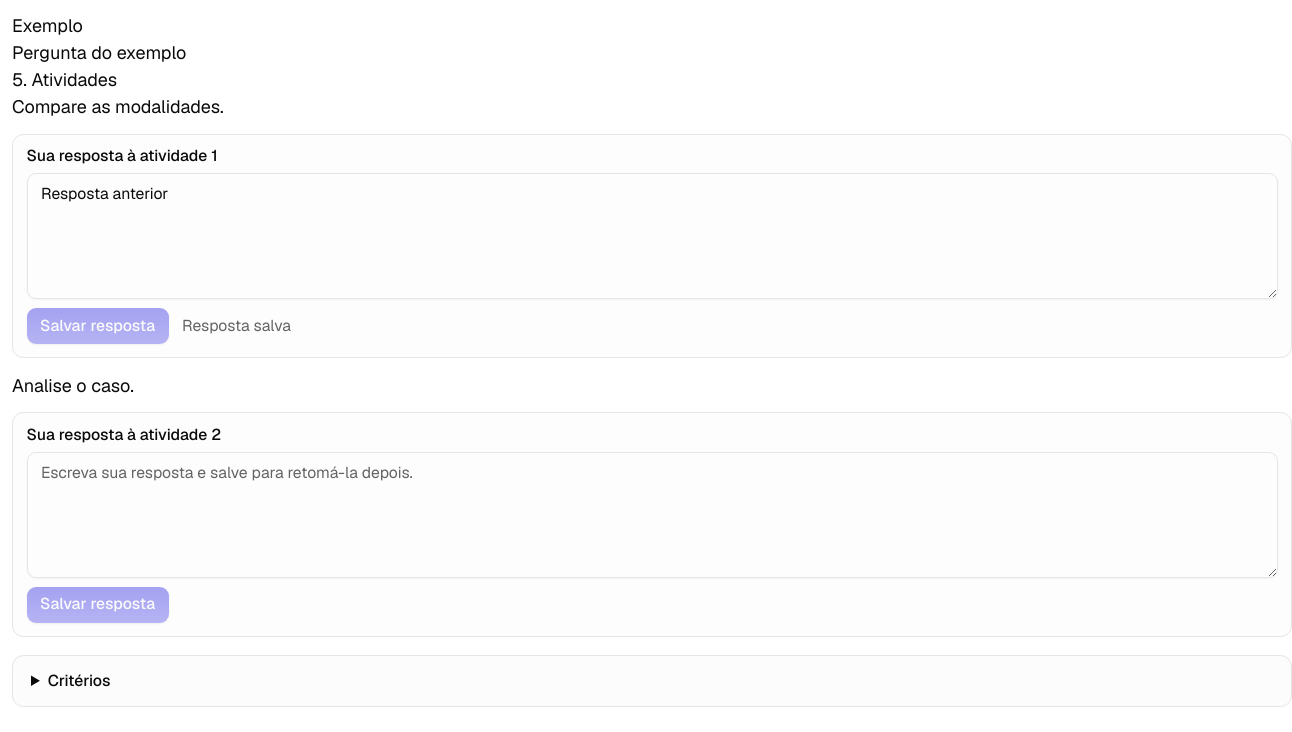
Test: Respostas nas perguntas dentro da aula › salvar uma atividade não apaga o rascunho de outra durante a atualização da consulta
This screenshot has width=1292, height=732.
Type "Ainda estou elaborando" into the text box labelled "Sua resposta à atividade 2".
click(652, 514); type("Ainda estou elaborando")  # box [26,452,1278,578]
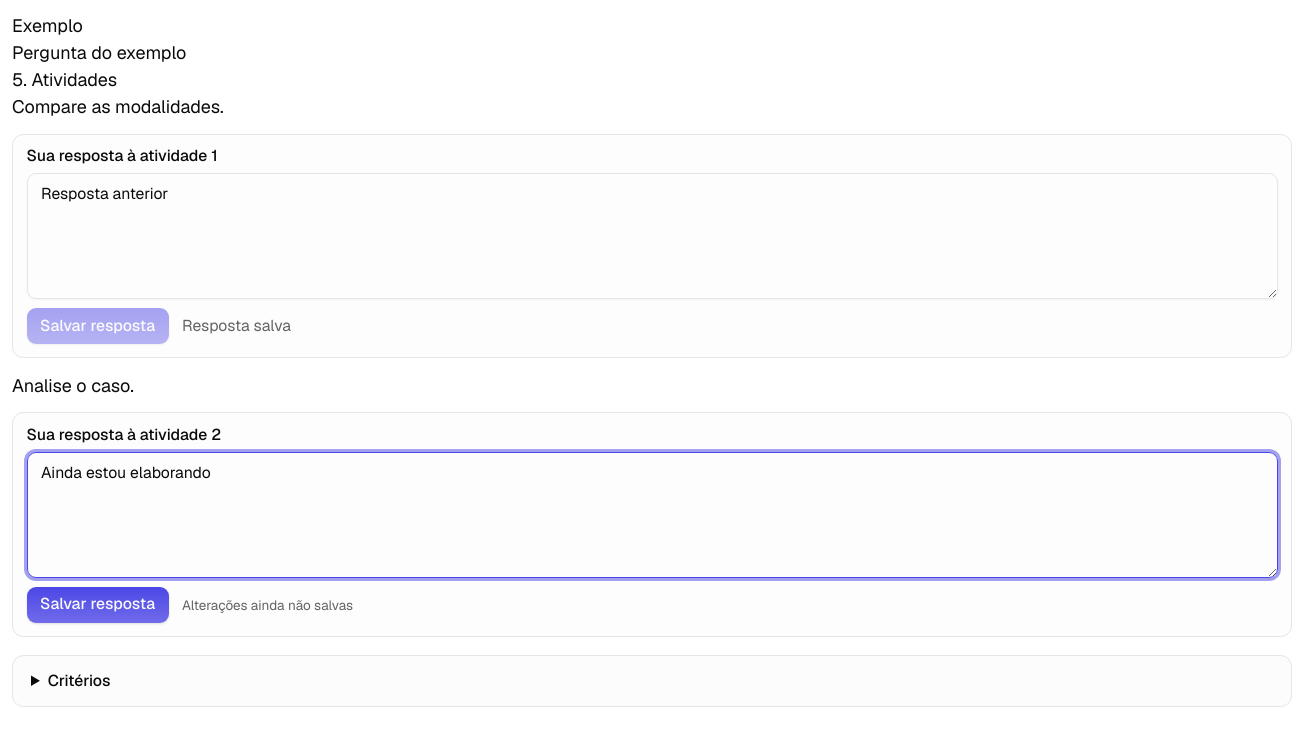
Replace the text in the text box labelled "Sua resposta à atividade 1" with "Resposta editada" at x=652, y=236, box [26,173,1278,299]
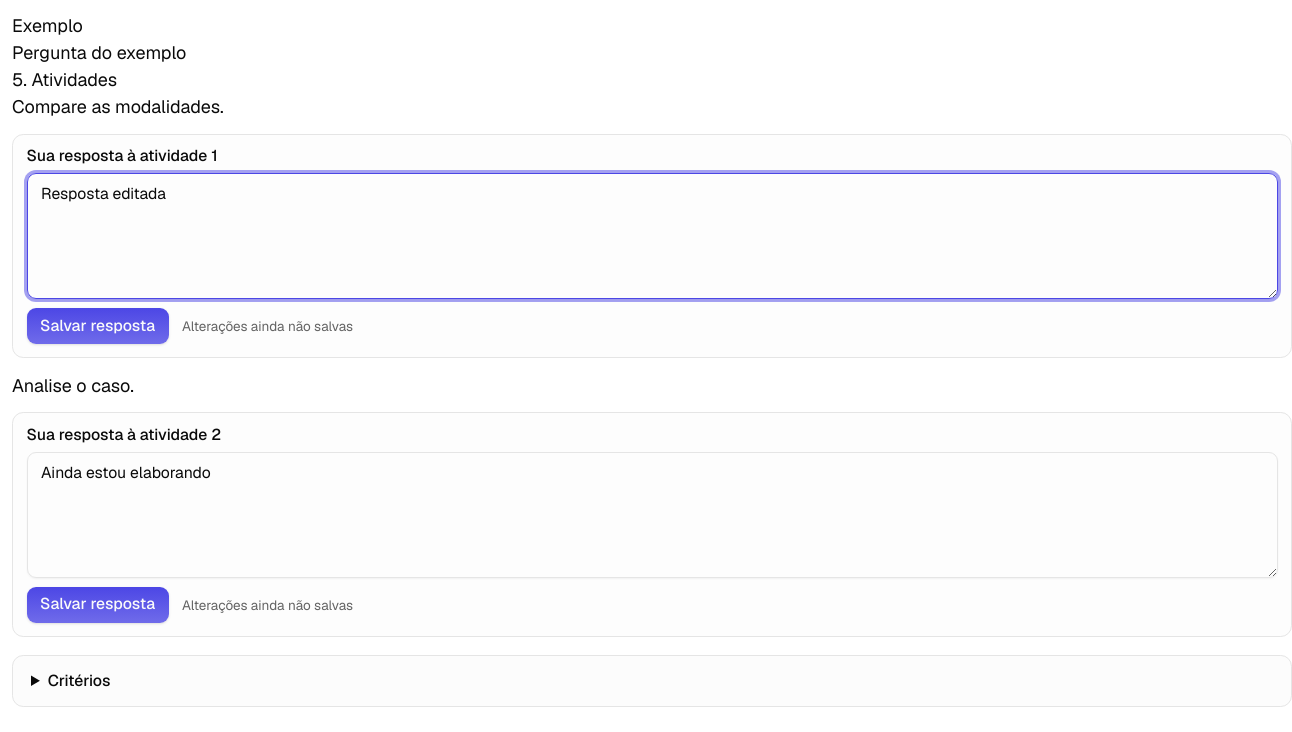
Click the button with aria-label "Salvar resposta da atividade 1".
click(98, 326)  # box [26,308,168,344]
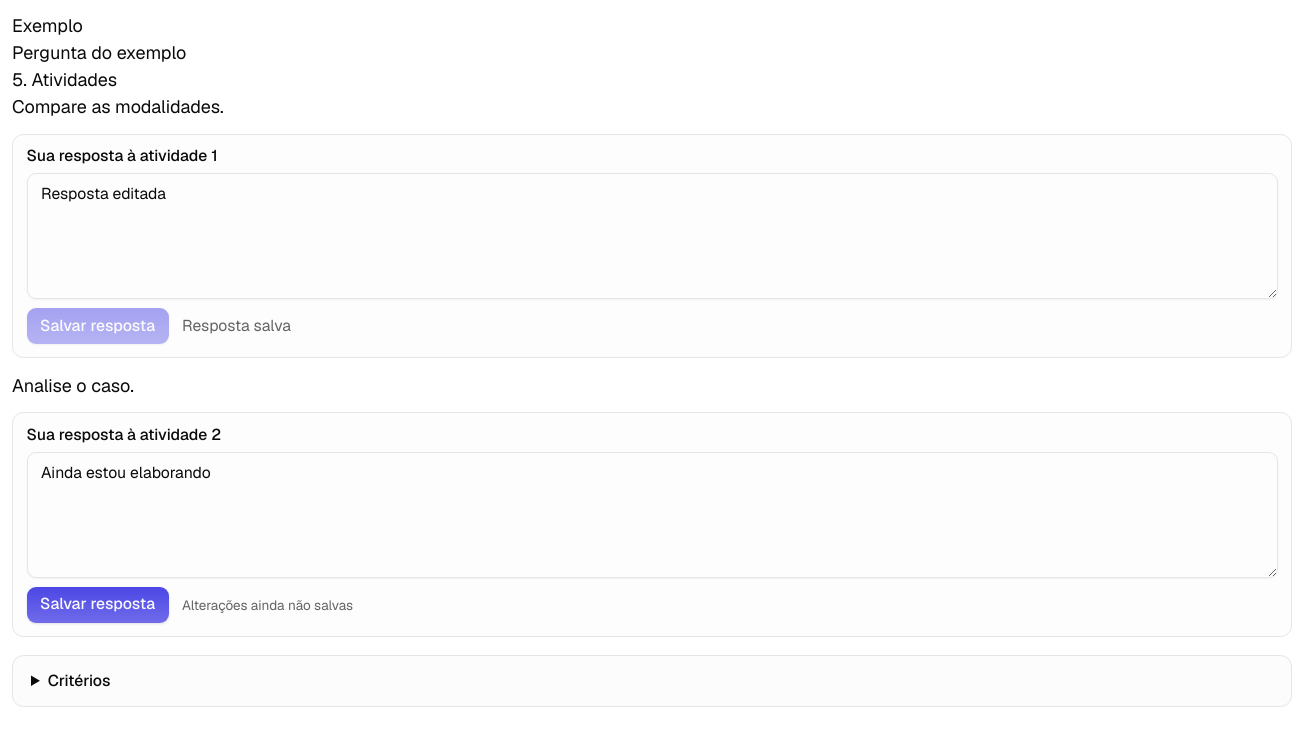
Result: the button with aria-label "Salvar resposta da atividade 1" is disabled at [26,308,168,344]
